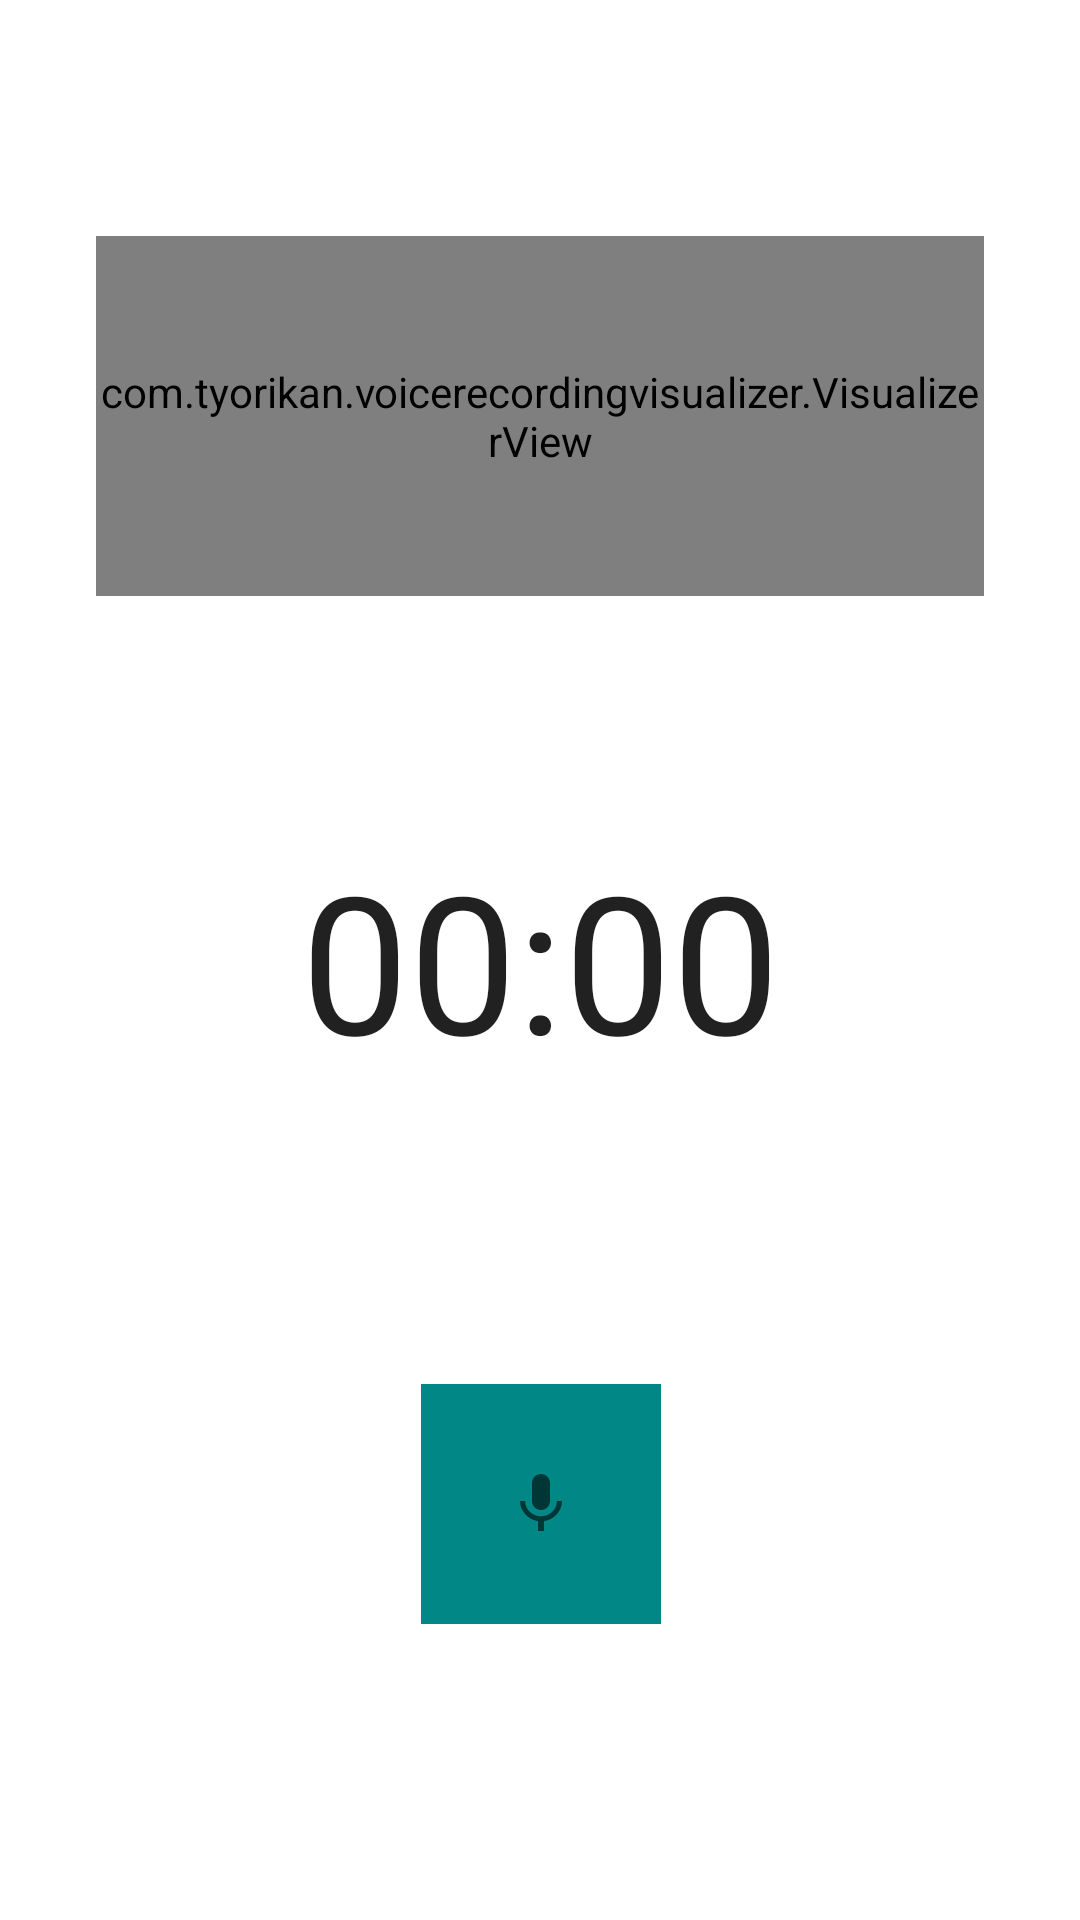

Point at icon controls on the screen. Image size 1080x1920, points as [x,y].
mic: [541,1504]
